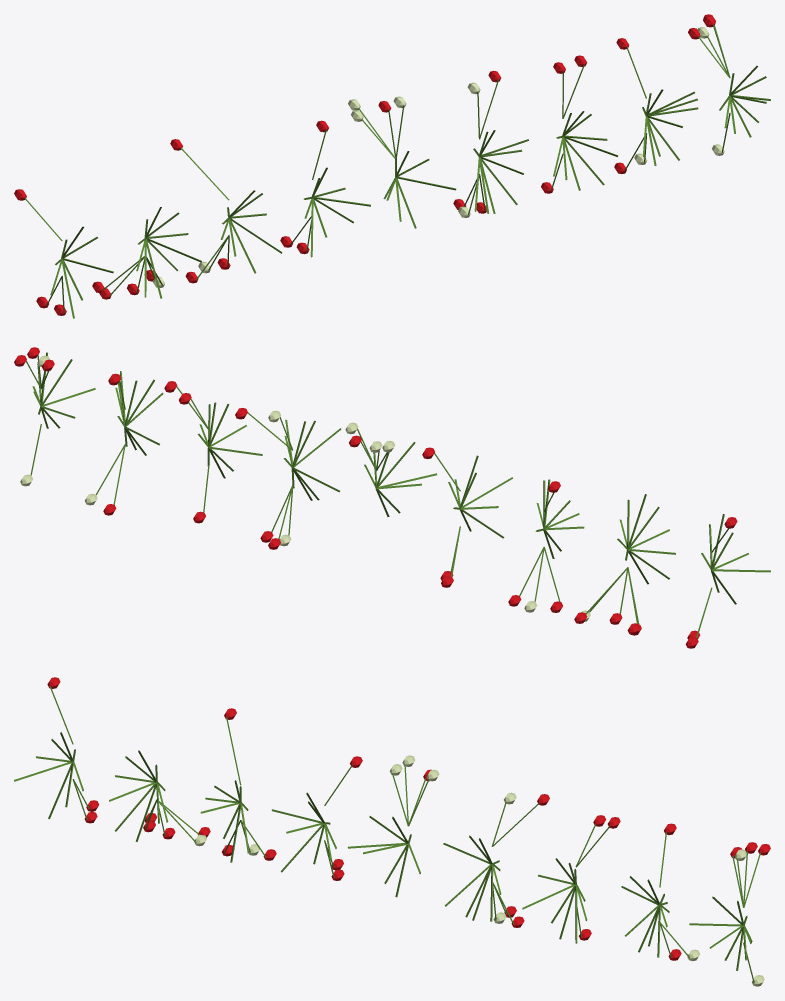
Rendered from r28c1_rest.obj.
3 views of the same model, one above another, from view 1: azimuth 30°, elevation 25°; view 2: azimuth 150°, elevation 25°; view 3: azimuth 330°, elevation 25° (orthographic).
Visible parts, largest first — view 1: r28c1_rest; view 2: r28c1_rest; view 3: r28c1_rest.
Part boxes in pixels (x1,y1,x2,y2): r28c1_rest: (14,14,770,318); r28c1_rest: (14,347,770,648); r28c1_rest: (14,677,770,986).
Bounding box in the file's own units: 2.18 × 0.4018 × 0.259.
